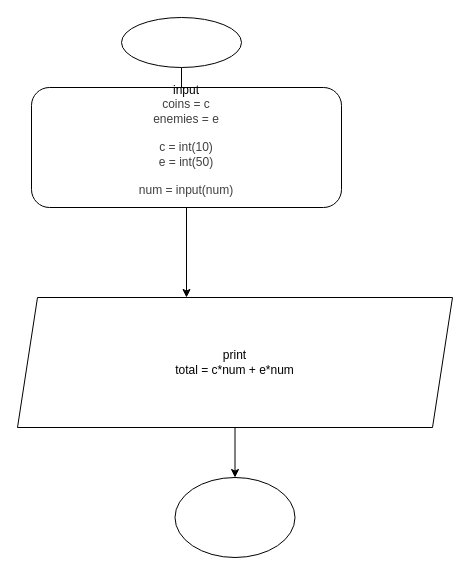
This 470x575 diagram has some shape labels left out. The box of each missing label's shape, as (x1, y1, x2, y2) in pixels:
start: (120, 16, 242, 68)
stop: (174, 476, 295, 558)
